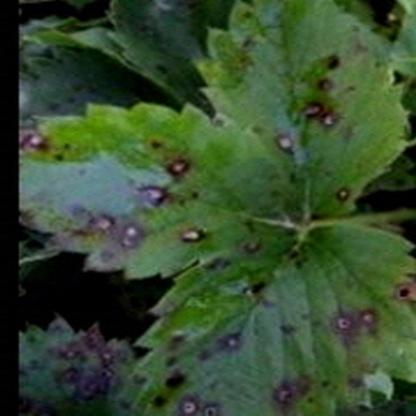Strawberry_Leaf_Spot: (109, 224, 415, 415), (19, 101, 298, 279), (190, 0, 415, 218), (18, 316, 136, 415)
